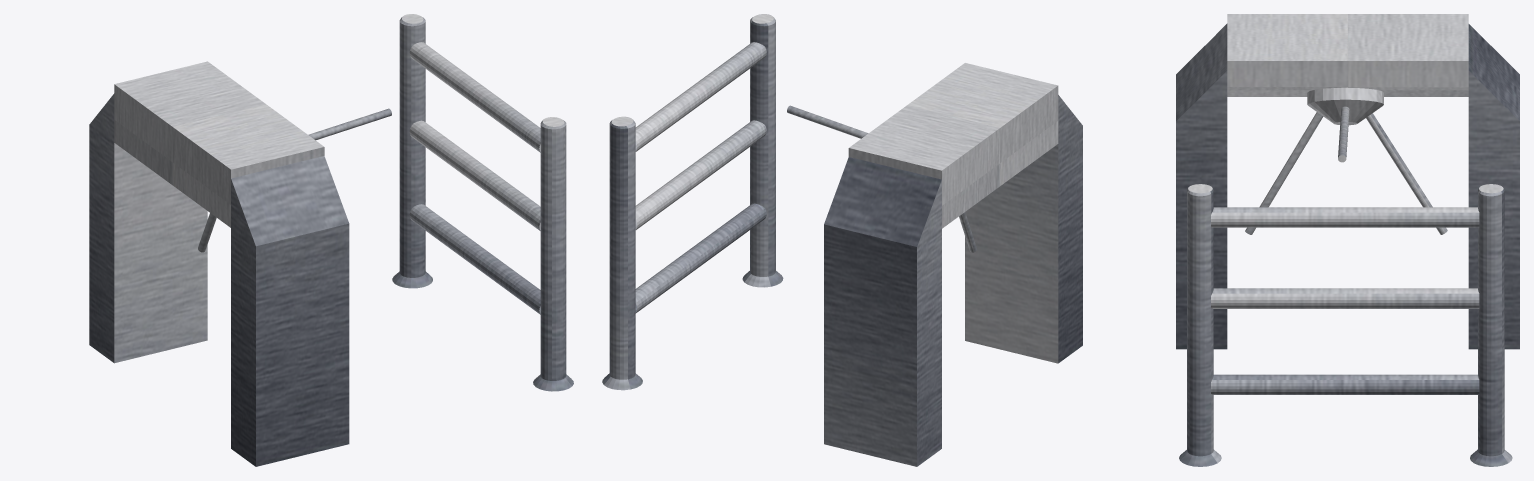
File: Turnstile.fbx
3 views of the same model, side by side, from view 1: azimuth 30°, elevation 25°; view 2: azimuth 150°, elevation 25°; view 3: azimuth 270°, elevation 25° (orthographic). The views are drawn at different scales.
Visible parts, largest first — view 1: G_Turnstile:G_TurnstileT; view 2: G_Turnstile:G_TurnstileT; view 3: G_Turnstile:G_TurnstileT.
Boxes of the visible parts, box(x1,y1,x2,y2) form: G_Turnstile:G_TurnstileT: box(89, 14, 573, 466); G_Turnstile:G_TurnstileT: box(602, 14, 1082, 466); G_Turnstile:G_TurnstileT: box(1176, 14, 1519, 466).
Size of the model in its own units: 8.62 by 4.79 by 5.17.
